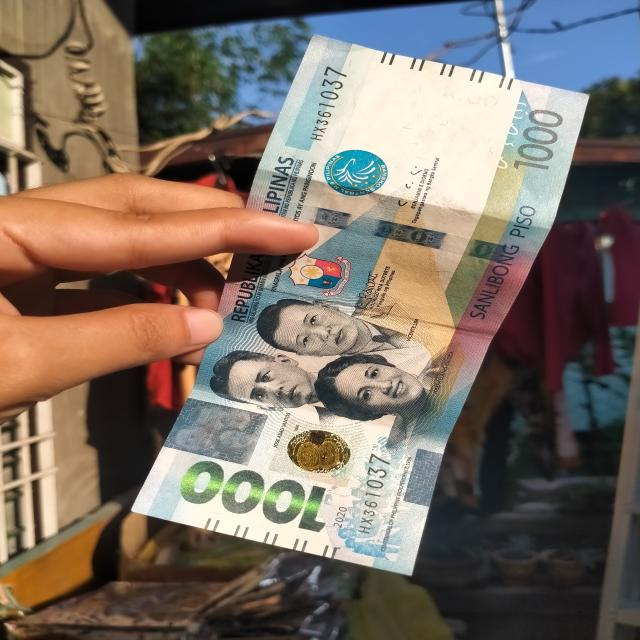concealed_value: (162, 397, 269, 466)
optically_variable_device: (269, 417, 363, 489)
security_thread: (244, 193, 537, 267)
see_through_mark: (491, 95, 532, 171)
serial_number: (296, 61, 348, 146), (352, 451, 398, 539)
value: (169, 453, 338, 535)
value_watermark: (438, 83, 502, 110)
